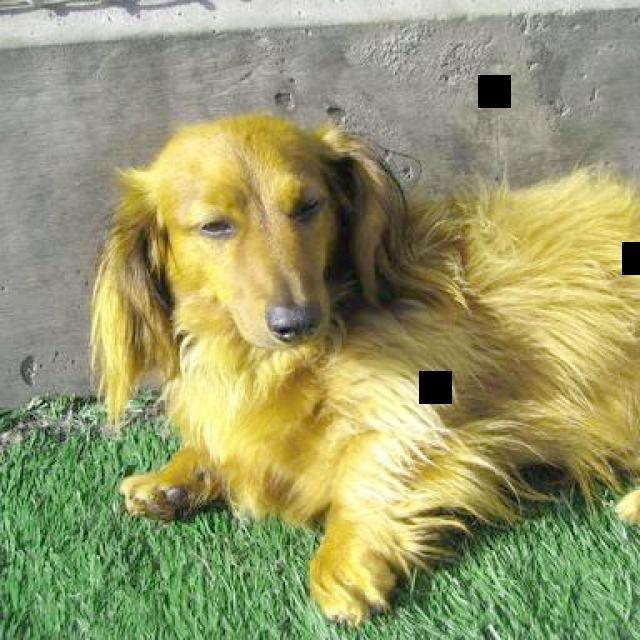adult_dog: (82, 109, 640, 628)
